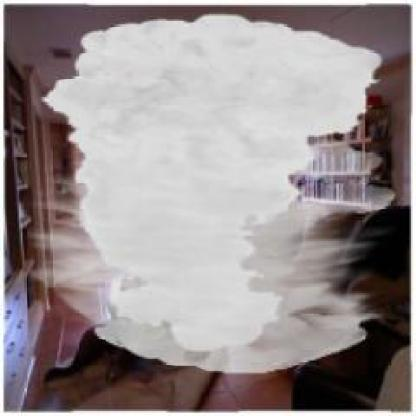Smoke: (26, 13, 395, 374)
